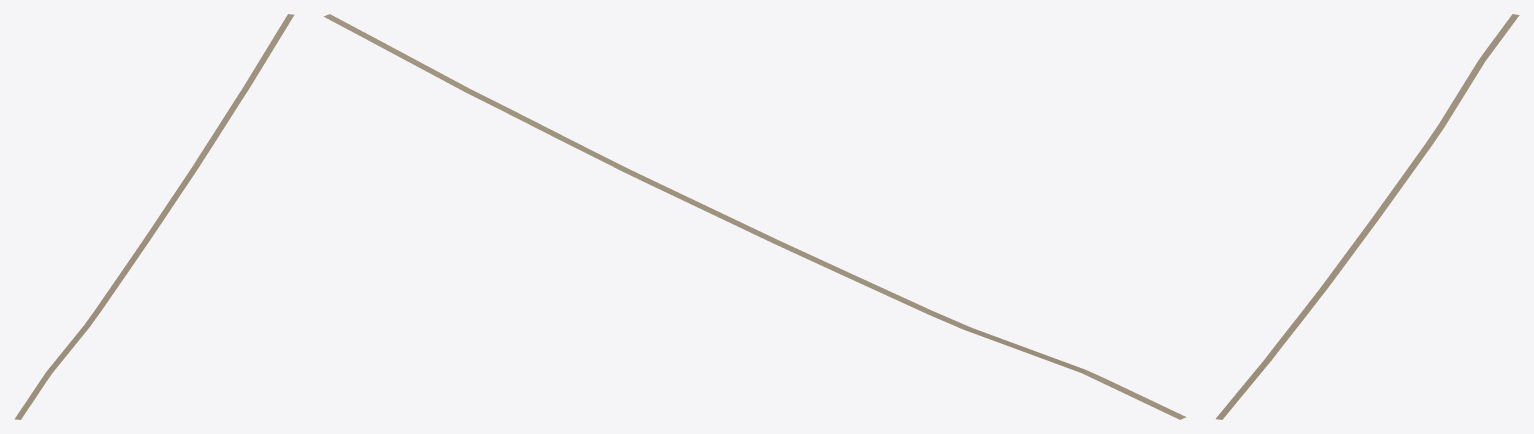
The model's file is farm_6_2_track.glb.
The picture shows the model from 3 angles, left to right: view 1: azimuth 90°, elevation 25°; view 2: azimuth 150°, elevation 25°; view 3: azimuth 270°, elevation 25°; orthographic projection. The views are drawn at different scales.
Parts seen in each view (by area): view 1: geometry_0; view 2: geometry_0; view 3: geometry_0.
Part boxes in pixels (<box>): geometry_0: <box>15,14,294,419</box>; geometry_0: <box>324,14,1186,419</box>; geometry_0: <box>1216,14,1519,419</box>.
Size of the model in its own units: 446 by 11.56 by 136.
